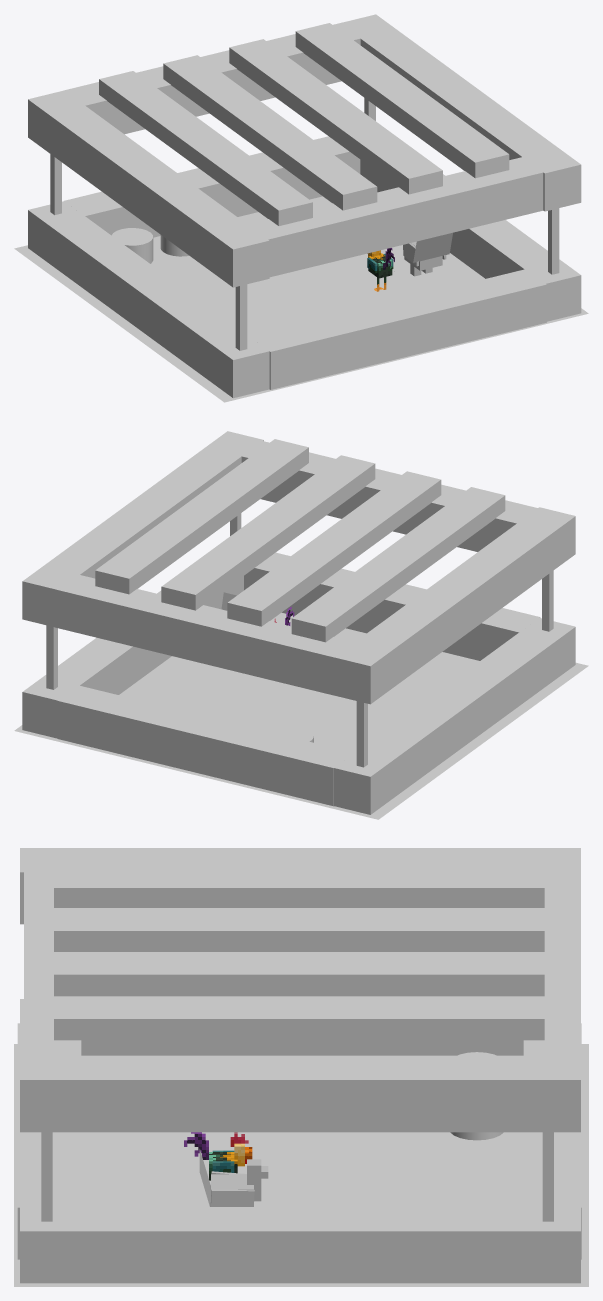
File: SampleScene.gltf
3 views of the same model, one above another, from view 1: azimuth 30°, elevation 25°; view 2: azimuth 150°, elevation 25°; view 3: azimuth 270°, elevation 25° (orthographic). The views are drawn at different scales.
Visible parts, largest first — view 1: Cube (4), Cube (3), Cube (2), Plane, Cube (7), Cube (6), Cube (13), Cube (15), Cube (14), Cube (12), Cube, Cube (5) (+6 smaller); view 2: Plane, Cube (4), Cube (1), Cube (2), Cube (5), Cube (6), Cube (14), Cube (13), Cube (12), Cube (15), Cube, Cube (3) (+4 smaller); view 3: Cube (6), Cube, Plane, Cube (14), Cube (15), Cube (13), Cube (12), Cube (4), Cube (5), Cube (2), Cube (7), Cube (3) (+4 smaller).
Boxes of the visible parts, <box> form: Cube (4): <box>28,90,269,287</box>; Cube (3): <box>250,269,546,389</box>; Cube (2): <box>28,201,269,398</box>; Plane: <box>14,196,588,402</box>; Cube (7): <box>245,157,543,277</box>; Cube (6): <box>340,14,581,211</box>; Cube (13): <box>163,55,377,210</box>; Cube (15): <box>295,23,509,178</box>; Cube (14): <box>229,39,442,194</box>; Cube (12): <box>99,71,312,225</box>; Cube: <box>360,159,581,321</box>; Cube (5): <box>64,22,363,134</box>; Plane: <box>14,612,588,819</box>; Cube (4): <box>334,507,575,704</box>; Cube (1): <box>57,685,354,806</box>; Cube (2): <box>334,618,575,814</box>; Cube (5): <box>54,575,354,695</box>; Cube (6): <box>22,431,263,627</box>; Cube (14): <box>161,455,375,610</box>; Cube (13): <box>227,471,441,626</box>; Cube (12): <box>291,487,505,642</box>; Cube (15): <box>95,439,308,594</box>; Cube: <box>22,576,243,738</box>; Cube (3): <box>244,552,540,660</box>; Cube (6): <box>20,1055,580,1132</box>; Cube: <box>20,1207,580,1283</box>; Plane: <box>14,1044,588,1286</box>; Cube (14): <box>54,952,544,996</box>; Cube (15): <box>54,996,544,1040</box>; Cube (13): <box>54,908,544,951</box>; Cube (12): <box>54,865,544,907</box>; Cube (4): <box>20,848,580,924</box>; Cube (5): <box>523,871,580,1058</box>; Cube (2): <box>20,999,523,1055</box>; Cube (7): <box>24,870,81,1056</box>; Cube (3): <box>17,1023,74,1259</box>.
Size of the model in its own units: 10 by 4.31 by 10.
